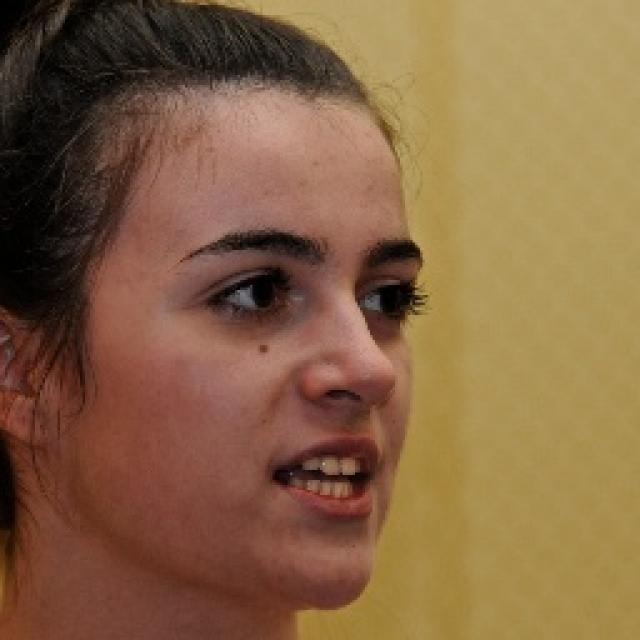earlobe: (0, 303, 48, 446)
